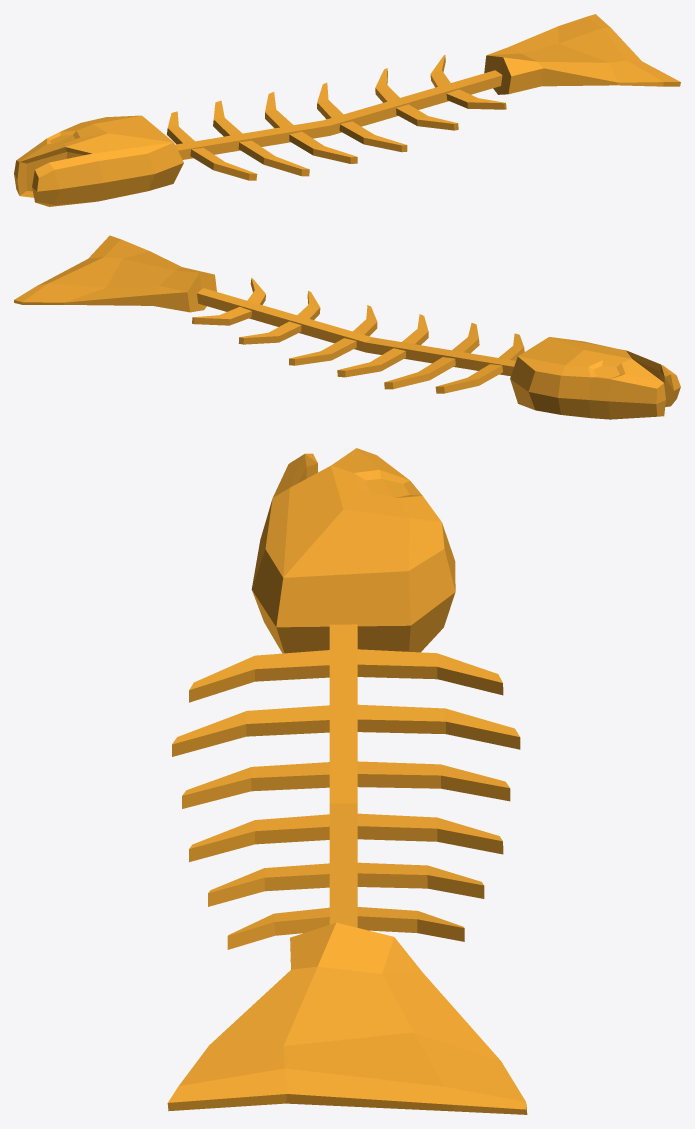
Rendered from SM_Fish_Bone_Fantasy.fbx.
The picture shows the model from 3 angles, top to bottom: view 1: azimuth 30°, elevation 25°; view 2: azimuth 150°, elevation 25°; view 3: azimuth 270°, elevation 25°; orthographic projection. The views are drawn at different scales.
Parts seen in each view (by area): view 1: fish-bone-fantasy; view 2: fish-bone-fantasy; view 3: fish-bone-fantasy.
Part boxes in pixels (x1,y1,x2,y2): fish-bone-fantasy: [14, 14, 680, 206]; fish-bone-fantasy: [14, 235, 680, 419]; fish-bone-fantasy: [167, 448, 527, 1114].
Size of the model in its own units: 0.6115 by 0.0521 by 0.1562.
